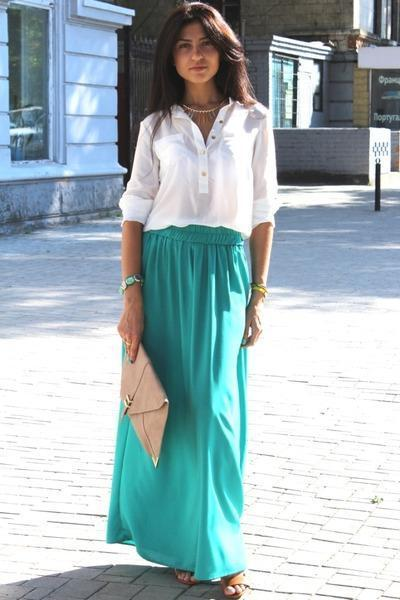bag: (119, 348, 168, 466)
shirt: (119, 84, 286, 247)
shoe: (163, 567, 271, 599)
skirt: (107, 224, 251, 580)
